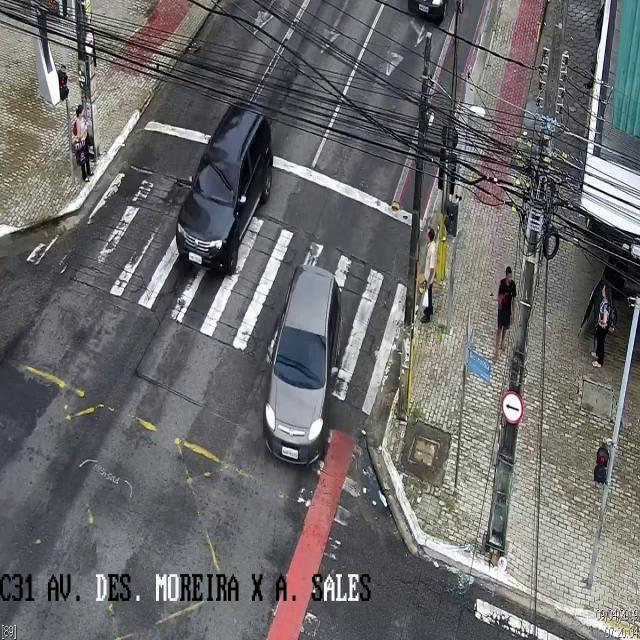Car: (174, 102, 272, 278), (264, 265, 342, 461), (402, 0, 466, 33)
